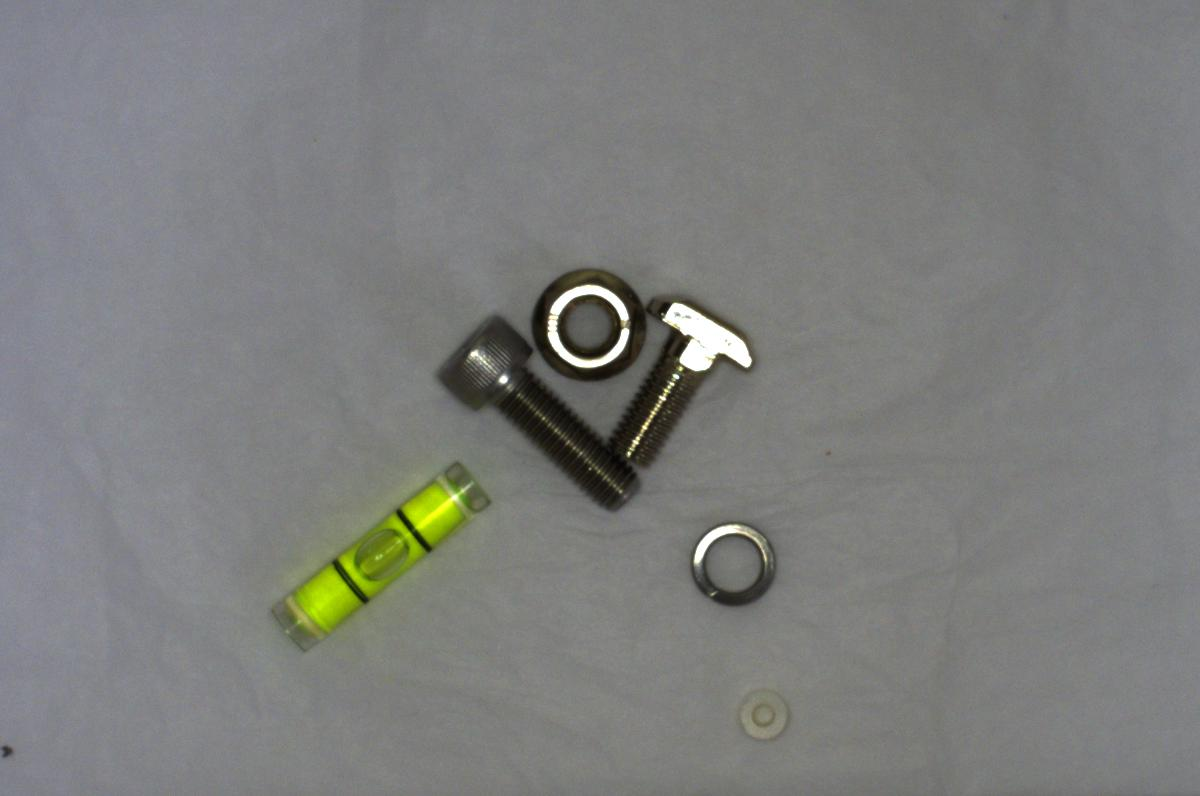Flange nut: (526, 264, 644, 382)
Hexagon screw: (432, 313, 639, 515)
Horizontal bubble: (279, 451, 488, 645)
Plastic cushion pillar: (729, 683, 789, 750)
Spring washer: (688, 515, 785, 617)
T-shaped screw: (605, 287, 770, 469)
